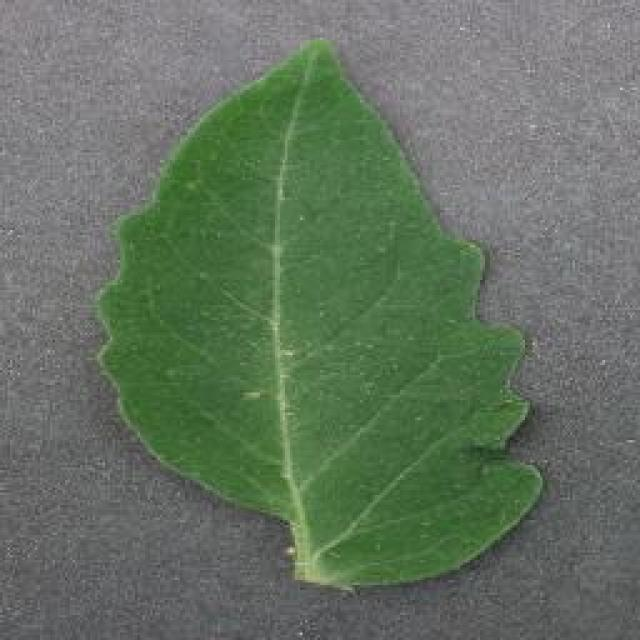Tomato healthy leaf: (115, 39, 545, 606)
